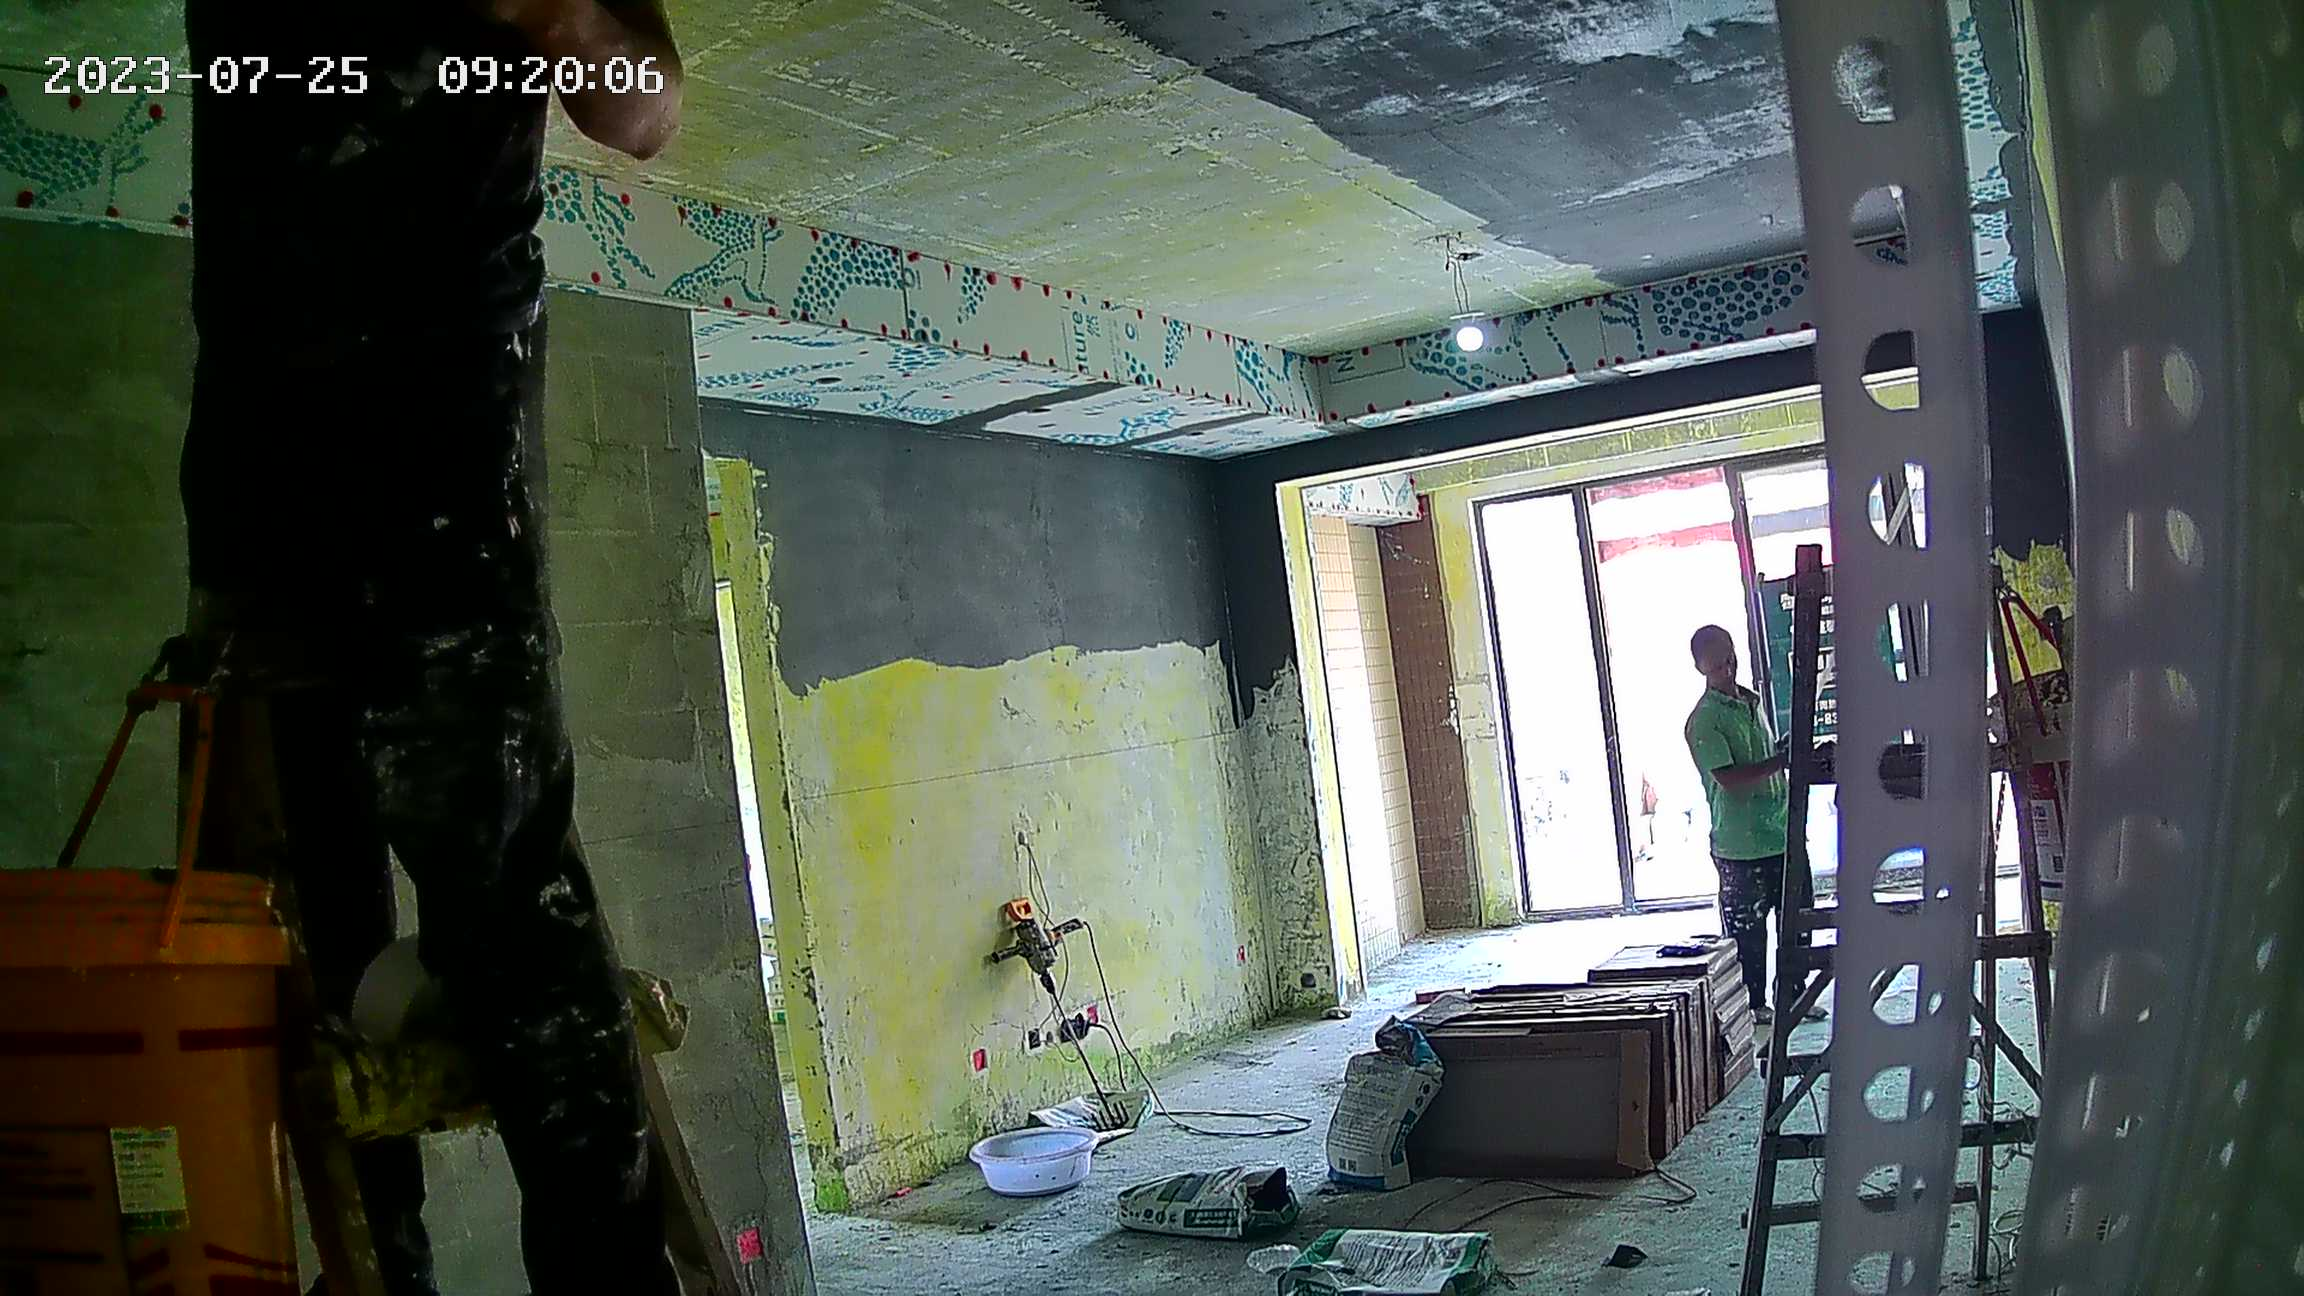people: (174, 1, 683, 1288), (1676, 620, 1826, 1023)
window: (1477, 494, 2015, 895)
